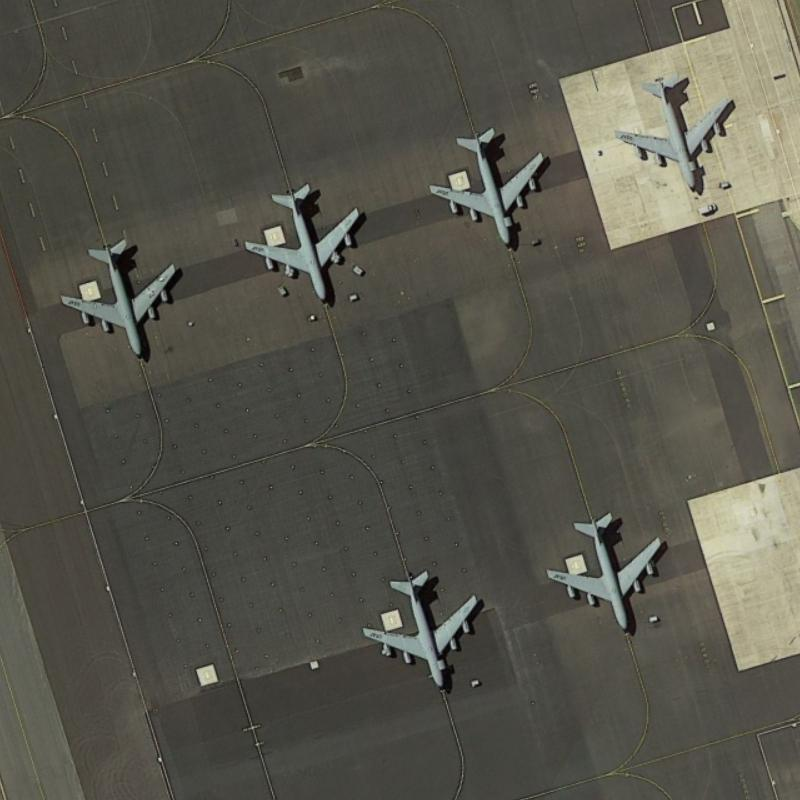A14: (55, 231, 181, 365), (358, 565, 485, 693), (422, 123, 545, 253), (541, 507, 665, 635), (240, 178, 363, 306), (614, 68, 733, 195)
